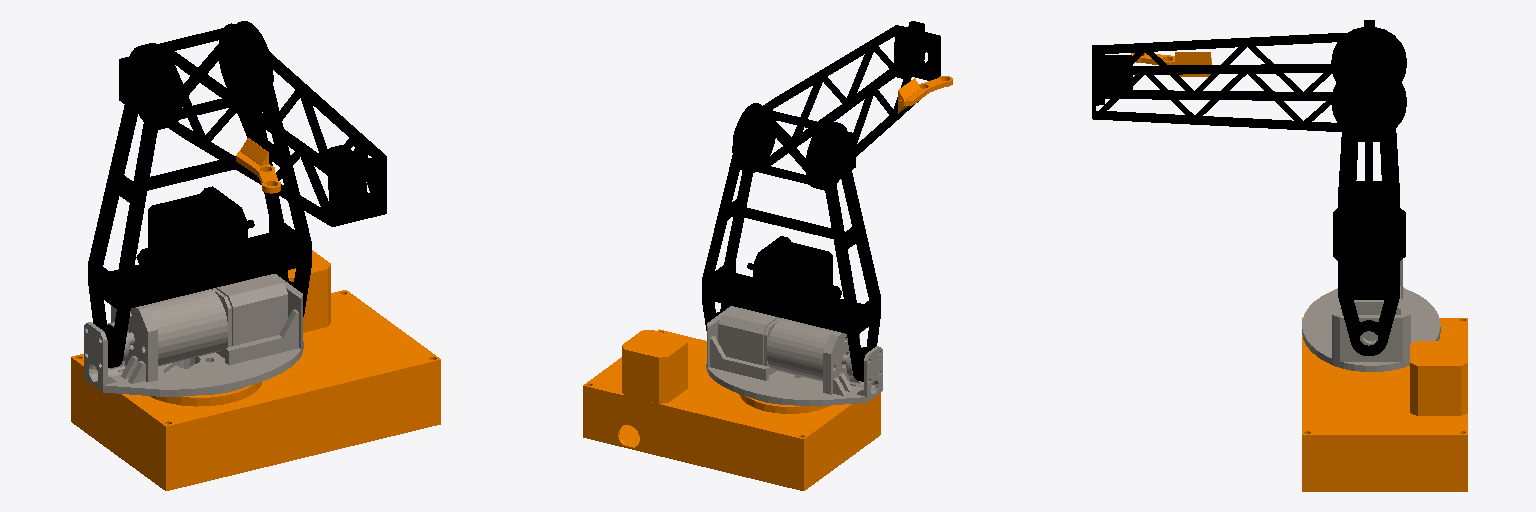
The robot description file, URDF, robot "manipulator_assembly_to_URDF_v2":
<?xml version="1.0" encoding="utf-8"?>
<!-- This URDF was automatically created by SolidWorks to URDF Exporter! Originally created by [author] ([email redacted]) 
     Commit Version: 1.6.0-4-g7f85cfe  Build Version: 1.6.7995.38578
     For more information, please see http://wiki.ros.org/sw_urdf_exporter -->
<robot
  name="manipulator_assembly_to_URDF_v2">
  <link
    name="base_link">
    <inertial>
      <origin
        xyz="0.0789173614759228 0.0365054375538782 0.000146943372671578"
        rpy="0 0 0" />
      <mass
        value="0.803055334573091" />
      <inertia
        ixx="0.00058252083724049"
        ixy="5.91238997535074E-06"
        ixz="2.22761804402797E-06"
        iyy="0.0012074631537419"
        iyz="3.76810492624628E-07"
        izz="0.00158848602901175" />
    </inertial>
    <visual>
      <origin
        xyz="0 0 0"
        rpy="0 0 0" />
      <geometry>
        <mesh
          filename="package://manipulator_assembly_to_URDF_v2/meshes/base_link.STL" />
      </geometry>
      <material
        name="">
        <color
          rgba="1 0.549019607843137 0 1" />
      </material>
    </visual>
    <collision>
      <origin
        xyz="0 0 0"
        rpy="0 0 0" />
      <geometry>
        <mesh
          filename="package://manipulator_assembly_to_URDF_v2/meshes/base_link.STL" />
      </geometry>
    </collision>
  </link>
  <link
    name="link_1">
    <inertial>
      <origin
        xyz="0.00584957744329572 4.50291616769585E-05 0.0298263419760327"
        rpy="0 0 0" />
      <mass
        value="1.29634781607792" />
      <inertia
        ixx="0.000364644624121157"
        ixy="6.10818275959069E-07"
        ixz="5.44707780658458E-06"
        iyy="0.00057710623926429"
        iyz="4.46425764716742E-07"
        izz="0.000606404758522164" />
    </inertial>
    <visual>
      <origin
        xyz="0 0 0"
        rpy="0 0 0" />
      <geometry>
        <mesh
          filename="package://manipulator_assembly_to_URDF_v2/meshes/link_1.STL" />
      </geometry>
      <material
        name="">
        <color
          rgba="0.647058823529412 0.619607843137255 0.588235294117647 1" />
      </material>
    </visual>
    <collision>
      <origin
        xyz="0 0 0"
        rpy="0 0 0" />
      <geometry>
        <mesh
          filename="package://manipulator_assembly_to_URDF_v2/meshes/link_1.STL" />
      </geometry>
    </collision>
  </link>
  <joint
    name="joint_1"
    type="continuous">
    <origin
      xyz="0 0 0"
      rpy="0 0 0" />
    <parent
      link="base_link" />
    <child
      link="link_1" />
    <axis
      xyz="0 0 1" />
  </joint>
  <link
    name="link_2">
    <inertial>
      <origin
        xyz="0.0624692345713514 -0.000212499756336727 -0.00438389058830384"
        rpy="0 0 0" />
      <mass
        value="0.656682402619019" />
      <inertia
        ixx="0.000302558003494536"
        ixy="-4.52379082874761E-08"
        ixz="4.70265576996236E-05"
        iyy="0.000505085462003595"
        iyz="-5.3371760088461E-08"
        izz="0.000395081060861996" />
    </inertial>
    <visual>
      <origin
        xyz="0 0 0"
        rpy="0 0 0" />
      <geometry>
        <mesh
          filename="package://manipulator_assembly_to_URDF_v2/meshes/link_2.STL" />
      </geometry>
      <material
        name="">
        <color
          rgba="0 0 0 1" />
      </material>
    </visual>
    <collision>
      <origin
        xyz="0 0 0"
        rpy="0 0 0" />
      <geometry>
        <mesh
          filename="package://manipulator_assembly_to_URDF_v2/meshes/link_2.STL" />
      </geometry>
    </collision>
  </link>
  <joint
    name="joint_2"
    type="continuous">
    <origin
      xyz="-0.00025 -0.0015763 0.030821"
      rpy="-3.1416 -1.5702 0" />
    <parent
      link="link_1" />
    <child
      link="link_2" />
    <axis
      xyz="0 0 1" />
  </joint>
  <link
    name="link_3">
    <inertial>
      <origin
        xyz="0.0595640388374039 -0.000801493795255848 -0.00158564852414744"
        rpy="0 0 0" />
      <mass
        value="0.090555203298826" />
      <inertia
        ixx="8.42452666533343E-05"
        ixy="8.38734067730732E-07"
        ixz="-6.30767901595749E-06"
        iyy="0.000435612309074478"
        iyz="-6.7312341062182E-07"
        izz="0.000393286765843842" />
    </inertial>
    <visual>
      <origin
        xyz="0 0 0"
        rpy="0 0 0" />
      <geometry>
        <mesh
          filename="package://manipulator_assembly_to_URDF_v2/meshes/link_3.STL" />
      </geometry>
      <material
        name="">
        <color
          rgba="0 0 0 1" />
      </material>
    </visual>
    <collision>
      <origin
        xyz="0 0 0"
        rpy="0 0 0" />
      <geometry>
        <mesh
          filename="package://manipulator_assembly_to_URDF_v2/meshes/link_3.STL" />
      </geometry>
    </collision>
  </link>
  <joint
    name="joint_3"
    type="continuous">
    <origin
      xyz="0.17296 0 0.00014863"
      rpy="0.00058608 0 1.5708" />
    <parent
      link="link_2" />
    <child
      link="link_3" />
    <axis
      xyz="0 0 1" />
  </joint>
  <link
    name="gripper">
    <inertial>
      <origin
        xyz="-0.000963725610493814 0.00867649640617191 0.0259025975632264"
        rpy="0 0 0" />
      <mass
        value="0.0296543051300522" />
      <inertia
        ixx="4.7474489759306E-06"
        ixy="-3.61101084319972E-09"
        ixz="9.76002957092922E-10"
        iyy="7.05174610923127E-06"
        iyz="8.72386839008527E-08"
        izz="4.14902836862368E-06" />
    </inertial>
    <visual>
      <origin
        xyz="0 0 0"
        rpy="0 0 0" />
      <geometry>
        <mesh
          filename="package://manipulator_assembly_to_URDF_v2/meshes/gripper.STL" />
      </geometry>
      <material
        name="">
        <color
          rgba="1 0.549019607843137 0 1" />
      </material>
    </visual>
    <collision>
      <origin
        xyz="0 0 0"
        rpy="0 0 0" />
      <geometry>
        <mesh
          filename="package://manipulator_assembly_to_URDF_v2/meshes/gripper.STL" />
      </geometry>
    </collision>
  </link>
  <joint
    name="joint_4"
    type="continuous">
    <origin
      xyz="0.2032 0 0"
      rpy="0 -1.5708 0" />
    <parent
      link="link_3" />
    <child
      link="gripper" />
    <axis
      xyz="0 0 1" />
  </joint>
  <link
    name="left_finger">
    <inertial>
      <origin
        xyz="0 -0.000425926587095032 -0.00903939508403562"
        rpy="0 0 0" />
      <mass
        value="0.00362258079755188" />
      <inertia
        ixx="8.58500861755857E-07"
        ixy="-3.44444998911607E-22"
        ixz="-6.39444302653888E-22"
        iyy="6.99901787426083E-07"
        iyz="-3.16139094535186E-07"
        izz="2.44943527289913E-07" />
    </inertial>
    <visual>
      <origin
        xyz="0 0 0"
        rpy="0 0 0" />
      <geometry>
        <mesh
          filename="package://manipulator_assembly_to_URDF_v2/meshes/left_finger.STL" />
      </geometry>
      <material
        name="">
        <color
          rgba="1 0.549019607843137 0 1" />
      </material>
    </visual>
    <collision>
      <origin
        xyz="0 0 0"
        rpy="0 0 0" />
      <geometry>
        <mesh
          filename="package://manipulator_assembly_to_URDF_v2/meshes/left_finger.STL" />
      </geometry>
    </collision>
  </link>
  <joint
    name="lf_joint"
    type="prismatic">
    <origin
      xyz="0.032331 0 0.076026"
      rpy="0.64123 0 -1.5708" />
    <parent
      link="gripper" />
    <child
      link="left_finger" />
    <axis
      xyz="0 0 -1" />
    <limit
      lower="0"
      upper="0.1"
      effort="1000"
      velocity="1" />
  </joint>
  <link
    name="right_finger">
    <inertial>
      <origin
        xyz="0 0.000350473490046799 -0.00904263486355916"
        rpy="0 0 0" />
      <mass
        value="0.00362258079755187" />
      <inertia
        ixx="8.58500861755855E-07"
        ixy="-9.48919078985656E-24"
        ixz="6.8072916985412E-23"
        iyy="7.05146594151508E-07"
        iyz="3.12298336456327E-07"
        izz="2.39698720564485E-07" />
    </inertial>
    <visual>
      <origin
        xyz="0 0 0"
        rpy="0 0 0" />
      <geometry>
        <mesh
          filename="package://manipulator_assembly_to_URDF_v2/meshes/right_finger.STL" />
      </geometry>
      <material
        name="">
        <color
          rgba="1 0.549019607843137 0 1" />
      </material>
    </visual>
    <collision>
      <origin
        xyz="0 0 0"
        rpy="0 0 0" />
      <geometry>
        <mesh
          filename="package://manipulator_assembly_to_URDF_v2/meshes/right_finger.STL" />
      </geometry>
    </collision>
  </link>
  <joint
    name="rf_joint"
    type="prismatic">
    <origin
      xyz="-0.030888 0 0.075969"
      rpy="-0.64381 0 -1.5708" />
    <parent
      link="gripper" />
    <child
      link="right_finger" />
    <axis
      xyz="0 0 -1" />
    <limit
      lower="0"
      upper="0.1"
      effort="1000"
      velocity="1" />
  </joint>
</robot>

--- What the picture shows (computed from the rendered views, not written in the file) ---
The picture shows the robot from 3 angles, left to right: view 1: azimuth 30°, elevation 25°; view 2: azimuth 150°, elevation 25°; view 3: azimuth 270°, elevation 25°; orthographic projection.
Robot: manipulator_assembly_to_URDF_v2 — 7 links, 6 joints (4 continuous, 2 prismatic); root link base_link; default pose: all joints at 0.
Visible links, largest first — view 1: base_link, link_2, link_3, link_1, right_finger; view 2: base_link, link_2, link_1, link_3, right_finger; view 3: base_link, link_3, link_2, link_1, right_finger.
Link boxes in pixels (x1,y1,x2,y2): base_link: (71, 250, 440, 490); link_2: (88, 49, 311, 367); link_3: (119, 21, 386, 226); link_1: (84, 274, 303, 396); right_finger: (236, 138, 280, 193); base_link: (583, 329, 880, 490); link_2: (702, 128, 880, 381); link_1: (706, 306, 882, 405); link_3: (732, 21, 940, 190); right_finger: (898, 76, 952, 113); base_link: (1302, 318, 1467, 491); link_3: (1092, 20, 1406, 137); link_2: (1333, 84, 1405, 355); link_1: (1302, 259, 1440, 371); right_finger: (1131, 52, 1211, 76).
Size in the robot's own frame: 0.2237 by 0.2717 by 0.2838 metres.
5 mesh visuals loaded from 7 distinct referenced files (5 binary STL); not drawn: 2 (reference not matched to a file when rendering).